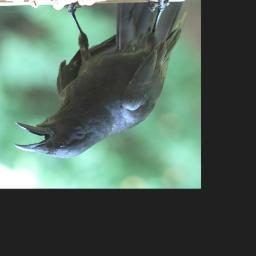Crow: (13, 0, 187, 159)
